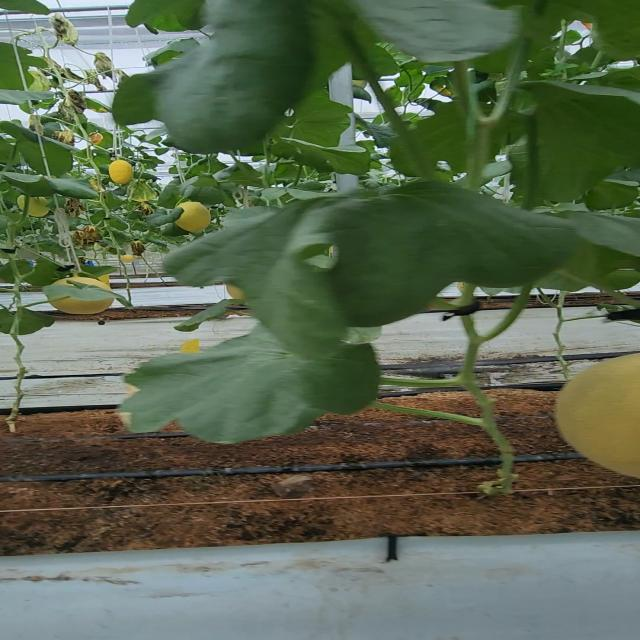Front-melon: (553, 354, 640, 482)
Rear-melon: (178, 204, 213, 232), (105, 161, 134, 182)
